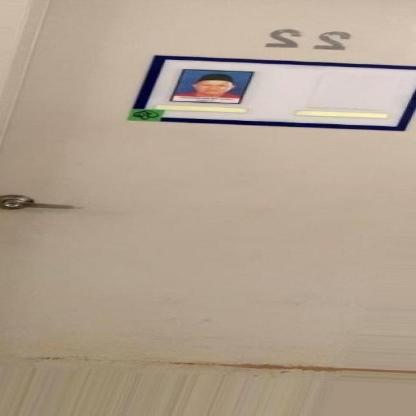door: (5, 0, 416, 416)
